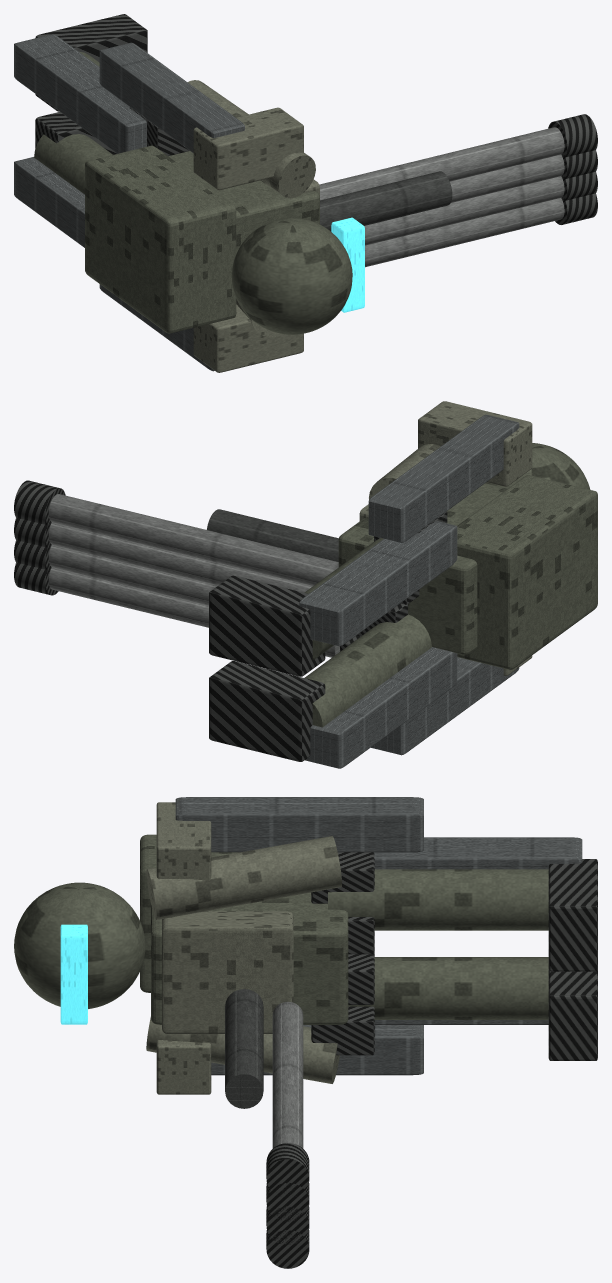
The model's file is v-u09-vanguard-exo-infantry-lod0.glb.
3 renders of one model, top to bottom at view 1: azimuth 30°, elevation 25°; view 2: azimuth 150°, elevation 25°; view 3: azimuth 270°, elevation 25°, orthographic. The views are drawn at different scales.
Visible parts, largest first — view 1: soldier_0_backpack, soldier_0_helmet, exo_servo_leg_1, exo_servo_arm_1, soldier_0_shoulder_1, exo_rotary_barrel_3, exo_rotary_barrel_0, soldier_0_rifle, exo_rotary_barrel_1, soldier_0_shoulder_-1, soldier_0_torso, exo_servo_leg_-1 (+12 smaller); view 2: soldier_0_backpack, exo_servo_leg_1, exo_servo_arm_1, soldier_0_boot_-1, exo_rotary_barrel_3, soldier_0_boot_1, exo_servo_leg_-1, soldier_0_torso, soldier_0_leg_-1, exo_rotary_barrel_2, exo_servo_arm_-1, exo_rotary_barrel_0 (+10 smaller); view 3: soldier_0_chest, exo_servo_arm_1, soldier_0_leg_1, soldier_0_leg_-1, soldier_0_helmet, soldier_0_arm_1, soldier_0_torso, exo_servo_leg_1, soldier_0_boot_1, soldier_0_boot_-1, exo_rotary_barrel_3, soldier_0_rifle (+15 smaller).
Boxes of the visible parts, x1,y1,x2,y2 form: soldier_0_backpack: [85, 145, 236, 333]; soldier_0_helmet: [232, 218, 352, 334]; exo_servo_leg_1: [14, 34, 146, 153]; exo_servo_arm_1: [99, 42, 244, 153]; soldier_0_shoulder_1: [193, 107, 303, 190]; exo_rotary_barrel_3: [319, 127, 564, 200]; exo_rotary_barrel_0: [365, 198, 564, 267]; soldier_0_rifle: [320, 171, 452, 231]; exo_rotary_barrel_1: [364, 176, 564, 245]; soldier_0_shoulder_-1: [193, 304, 303, 372]; soldier_0_torso: [168, 151, 319, 253]; exo_servo_leg_-1: [14, 157, 84, 247]; soldier_0_backpack: [457, 475, 597, 669]; exo_servo_leg_1: [299, 521, 457, 646]; exo_servo_arm_1: [368, 414, 519, 542]; soldier_0_boot_-1: [209, 661, 325, 761]; exo_rotary_barrel_3: [48, 494, 338, 585]; soldier_0_boot_1: [209, 575, 325, 676]; exo_servo_leg_-1: [305, 647, 457, 768]; soldier_0_torso: [338, 483, 507, 654]; soldier_0_leg_-1: [304, 614, 431, 727]; exo_rotary_barrel_2: [48, 522, 312, 592]; exo_servo_arm_-1: [371, 657, 519, 755]; exo_rotary_barrel_0: [48, 567, 339, 657]; soldier_0_chest: [162, 911, 293, 1033]; exo_servo_arm_1: [175, 797, 423, 852]; soldier_0_leg_1: [328, 869, 548, 930]; soldier_0_leg_-1: [348, 957, 548, 1019]; soldier_0_helmet: [14, 882, 145, 1008]; soldier_0_arm_1: [146, 836, 341, 919]; soldier_0_torso: [151, 892, 348, 1024]; exo_servo_leg_1: [374, 837, 582, 869]; soldier_0_boot_1: [548, 859, 597, 971]; soldier_0_boot_-1: [548, 969, 597, 1060]; exo_rotary_barrel_3: [272, 1002, 303, 1148]; soldier_0_rifle: [225, 989, 263, 1108].
Size of what is drawn, in the model's own units: 2.59 by 1.22 by 2.47.
7 materials, 7 textured.
